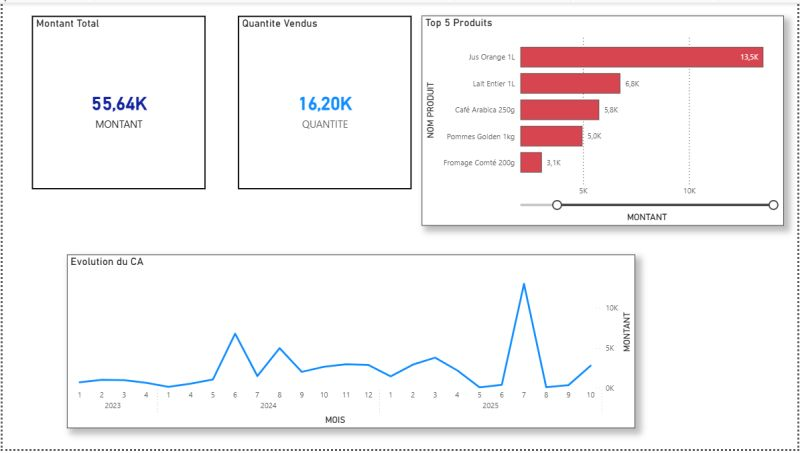

This screenshot's page, from the dashboard's own definition file:
{"tool":"powerbi","page":{"name":"Performance Commerciale","canvas":[1280,720],"ordinal":0},"visuals":[{"type":"card","title":"Montant Total","fields":{"Values":["FAIT VENTES.MONTANT"]},"box":[46.7,21.7,280,280],"z":0},{"type":"card","title":"Quantite Vendus","fields":{"Values":["FAIT VENTES.QUANTITE"]},"box":[378.3,21.7,280,280],"z":1000},{"type":"lineChart","title":"Evolution du CA","fields":{"Category":["DIM TEMPS.ANNEE","DIM TEMPS.MOIS"],"Y2":["FAIT VENTES.MONTANT"]},"box":[103.3,406.7,915,280],"z":2000},{"type":"clusteredBarChart","title":"Top 5 Produits","fields":{"Category":["DIM PRODUIT.NOM PRODUIT"],"Y":["FAIT VENTES.MONTANT"]},"box":[675,21.7,583.3,338.3],"z":3000}]}

Visuals, with their boxes in screenshot pixels (x1, y1, x2, y2), scaled from the page's 1280x720 canvas onto the 800x453 screenshot:
"Montant Total" card: (29,14,204,190)
"Quantite Vendus" card: (236,14,411,190)
"Evolution du CA" lineChart: (65,256,636,432)
"Top 5 Produits" clusteredBarChart: (422,14,786,226)
